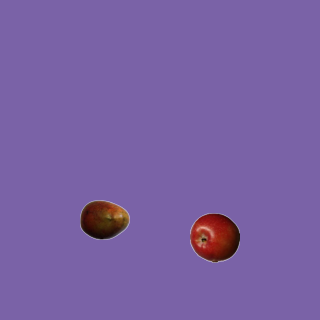Apple Braeburn: (189, 212, 239, 262)
Mango Red: (79, 194, 129, 244)
